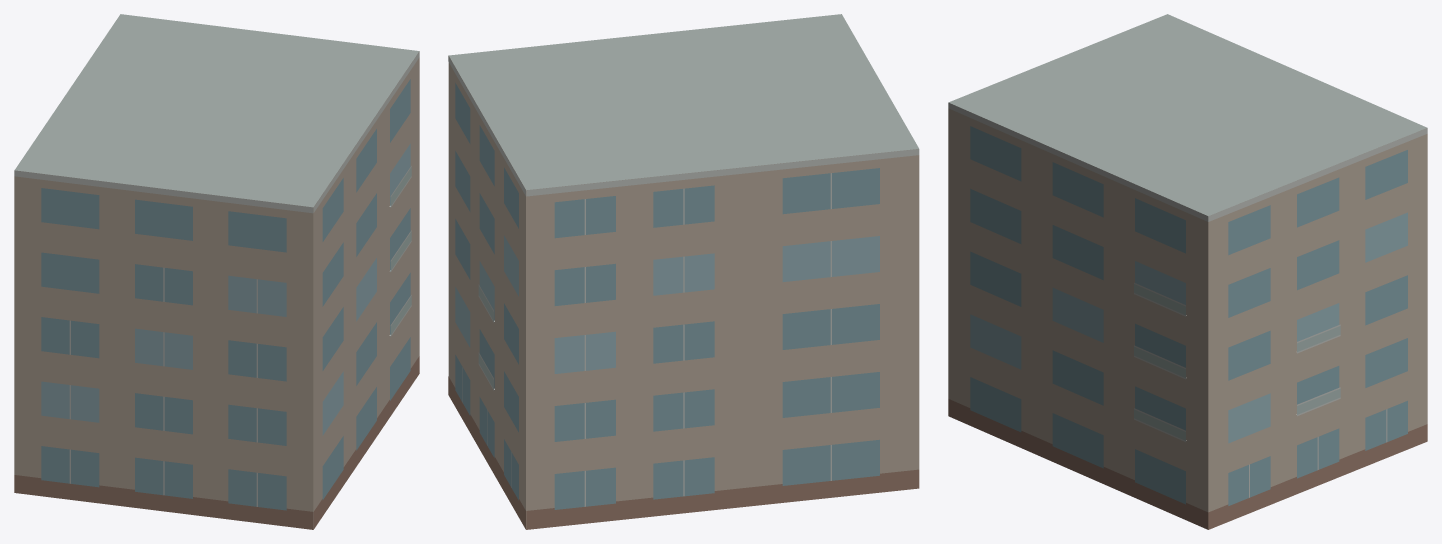
Rendered from survey-upis-33038934.glb.
3 renders of one model, left to right at view 1: azimuth 30°, elevation 25°; view 2: azimuth 150°, elevation 25°; view 3: azimuth 270°, elevation 25°, orthographic. The views are drawn at different scales.
Parts seen in each view (by area): view 1: survey-upis-33038934.tmp; view 2: survey-upis-33038934.tmp; view 3: survey-upis-33038934.tmp.
Boxes of the visible parts, x1,y1,x2,y2 form: survey-upis-33038934.tmp: [14, 14, 419, 529]; survey-upis-33038934.tmp: [448, 14, 919, 529]; survey-upis-33038934.tmp: [948, 14, 1427, 529].
Size of the model in its own units: 18.12 by 13.1 by 18.15.
